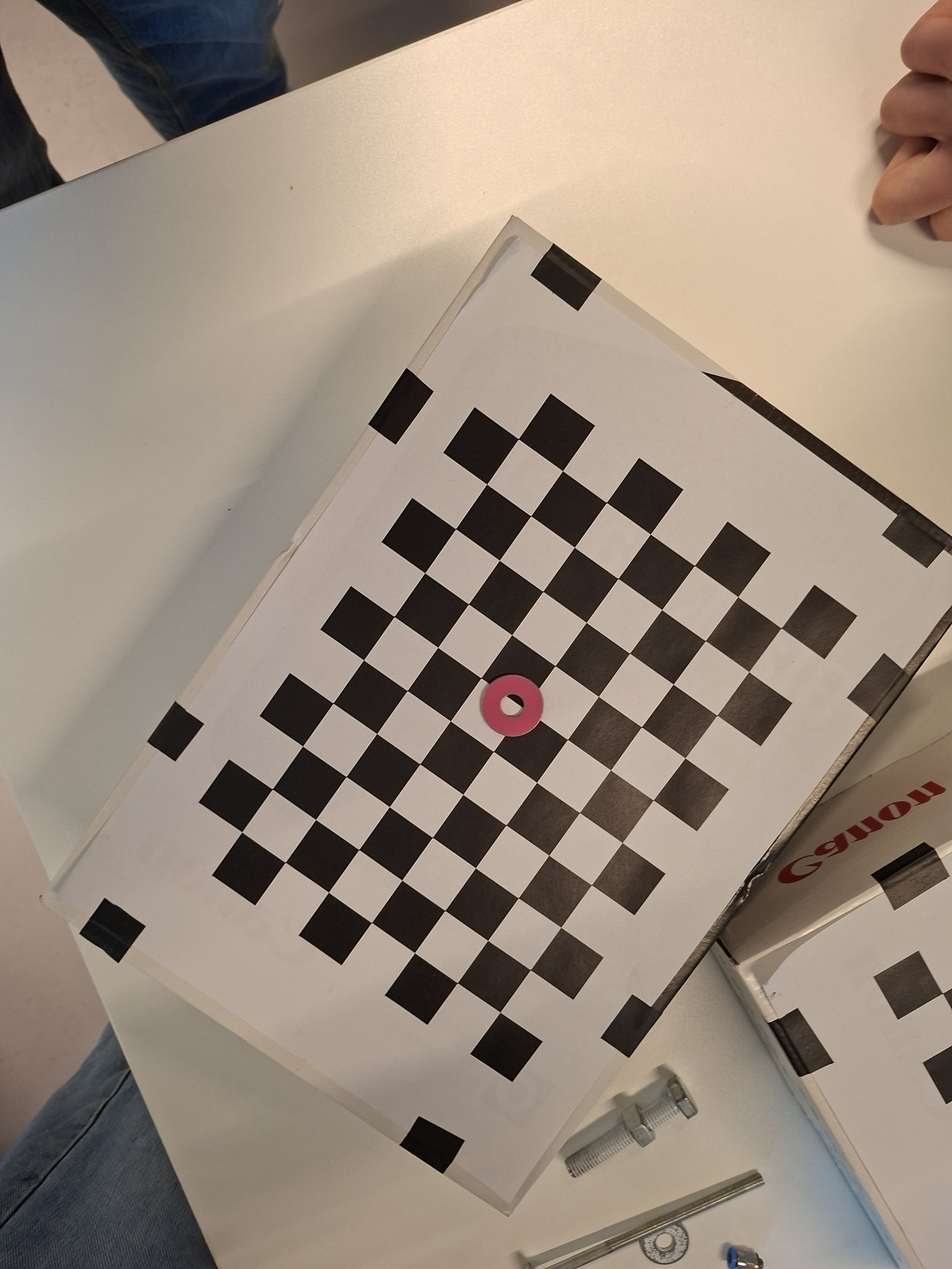washer: (477, 671, 550, 741)
